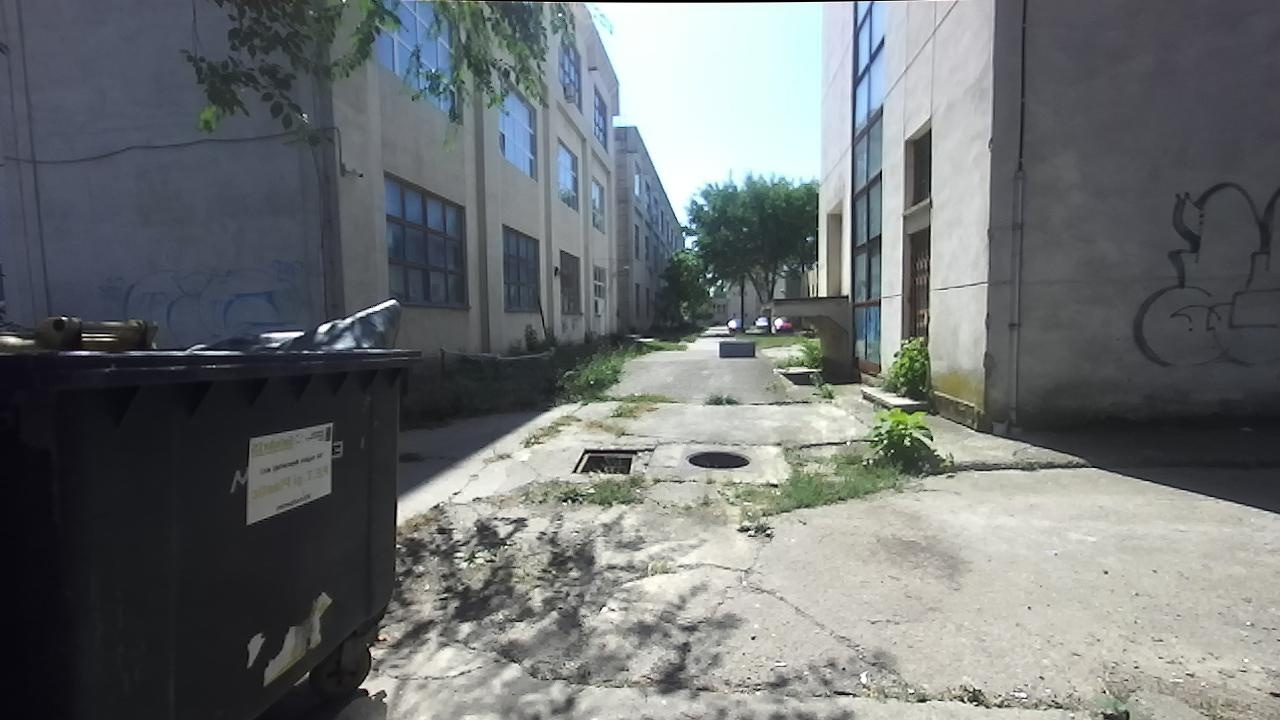drain: (566, 445, 638, 478), (678, 444, 753, 472)
